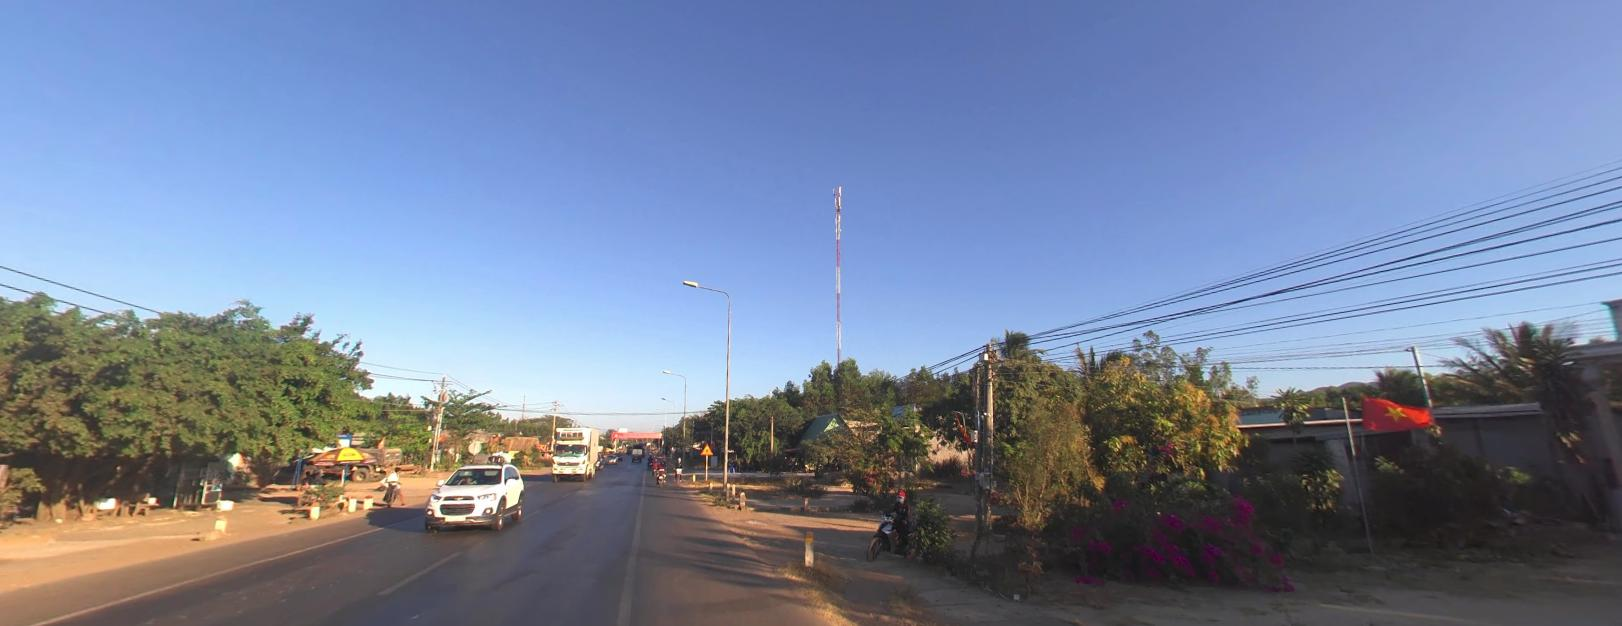Nguy hiem: (700, 442, 713, 454)
